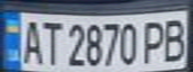0: (118, 19, 142, 66)
2: (63, 19, 87, 67)
7: (103, 20, 121, 68)
8: (81, 19, 106, 67)
A: (18, 17, 45, 65)
B: (157, 15, 193, 63)
P: (139, 17, 172, 65)
T: (36, 17, 63, 66)
